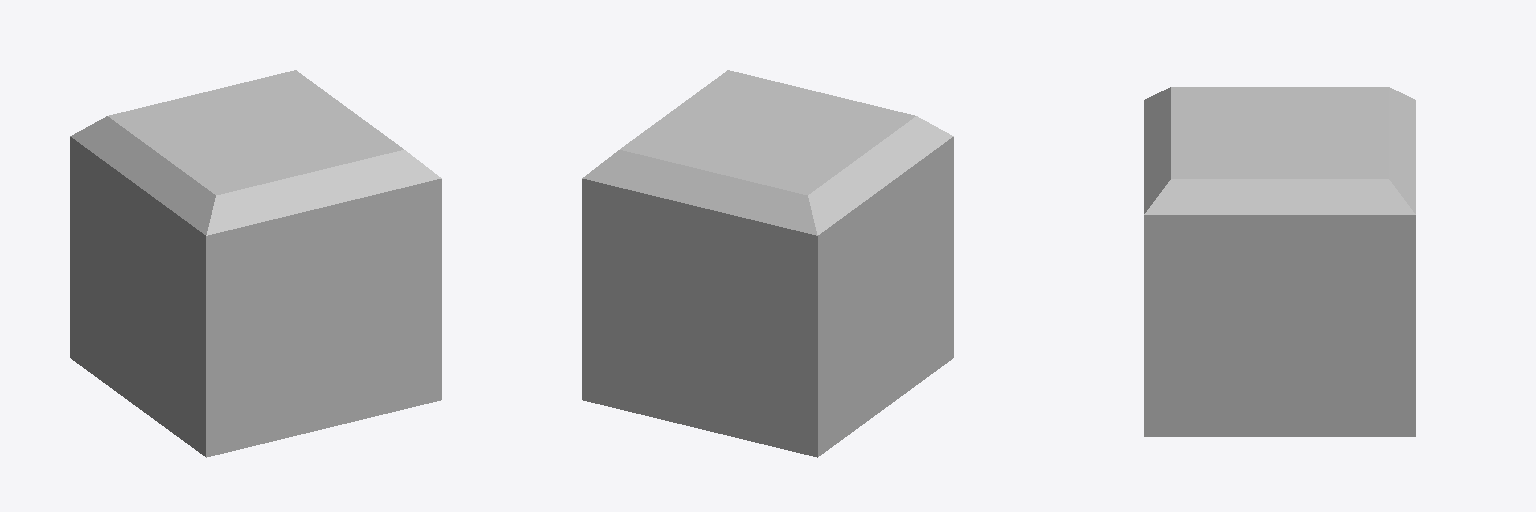
File: boiler.obj
3 renders of one model, left to right at view 1: azimuth 30°, elevation 25°; view 2: azimuth 150°, elevation 25°; view 3: azimuth 270°, elevation 25°, orthographic.
Parts seen in each view (by area): view 1: Cube_Cube.002; view 2: Cube_Cube.002; view 3: Cube_Cube.002.
Boxes of the visible parts, x1,y1,x2,y2 form: Cube_Cube.002: [70, 70, 441, 457]; Cube_Cube.002: [582, 70, 953, 457]; Cube_Cube.002: [1144, 87, 1415, 436].
Bounding box in the file's own units: 1 × 1 × 1.